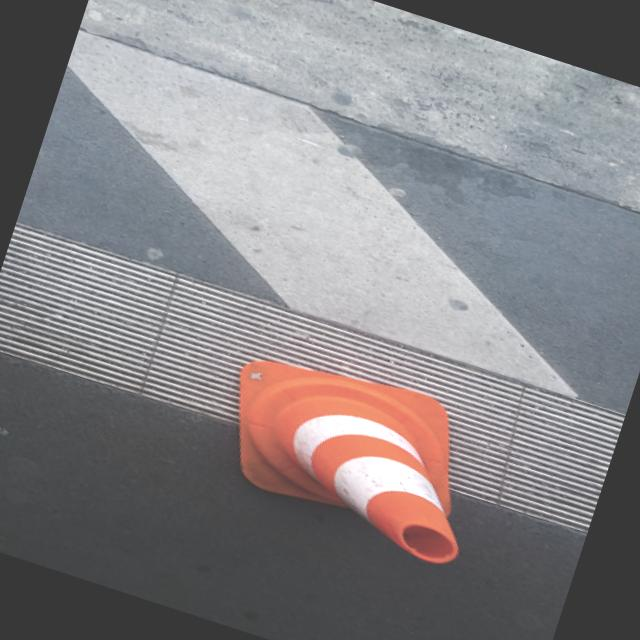cone: (172, 315, 558, 592)
